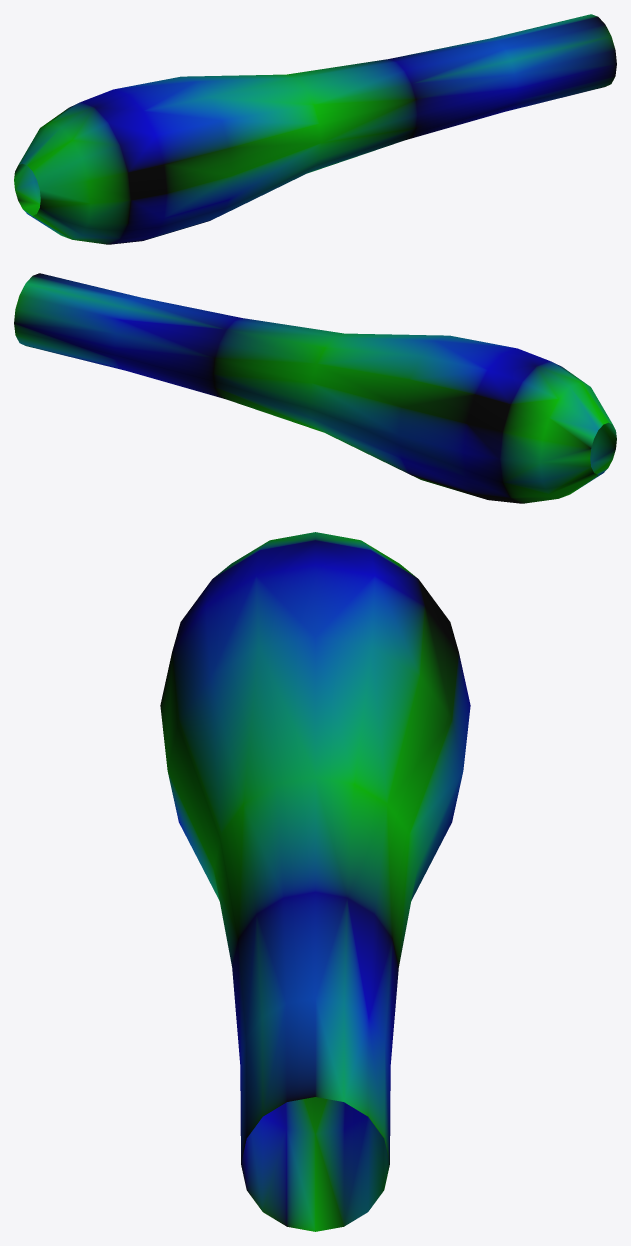
File: sertz__uni_razor_missile.glb
3 views of the same model, one above another, from view 1: azimuth 30°, elevation 25°; view 2: azimuth 150°, elevation 25°; view 3: azimuth 270°, elevation 25° (orthographic). The views are drawn at different scales.
Visible parts, largest first — view 1: uni_razor_missile; view 2: uni_razor_missile; view 3: uni_razor_missile.
Part boxes in pixels (x1,y1,x2,y2): uni_razor_missile: [14, 14, 616, 244]; uni_razor_missile: [14, 273, 616, 503]; uni_razor_missile: [160, 532, 470, 1231].
Bounding box in the file's own units: 136 × 32 × 32.
